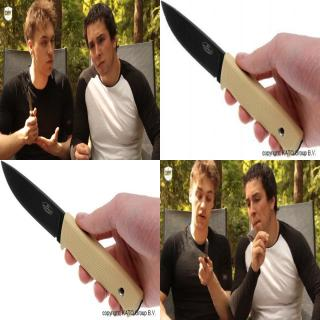knife: (160, 2, 302, 152), (0, 159, 107, 279), (24, 84, 39, 132), (197, 233, 212, 280)
